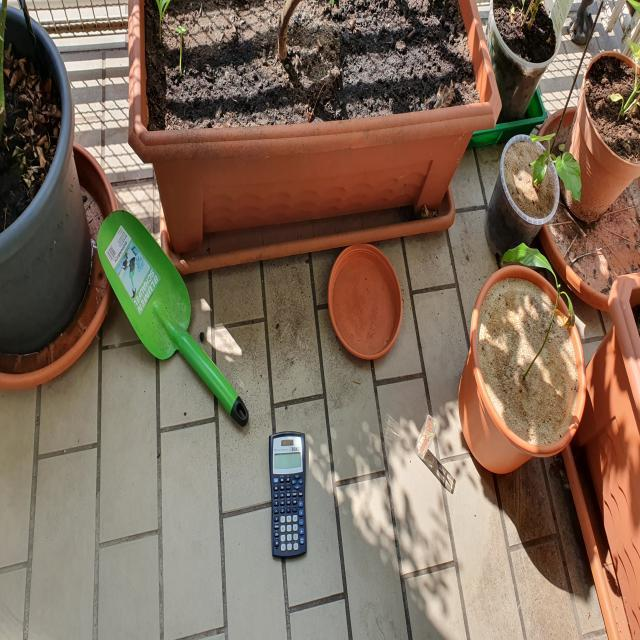Calculator: (269, 431, 307, 559)
